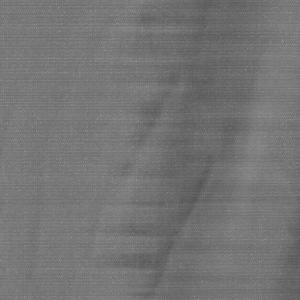Wrinkle: (81, 1, 272, 300)
